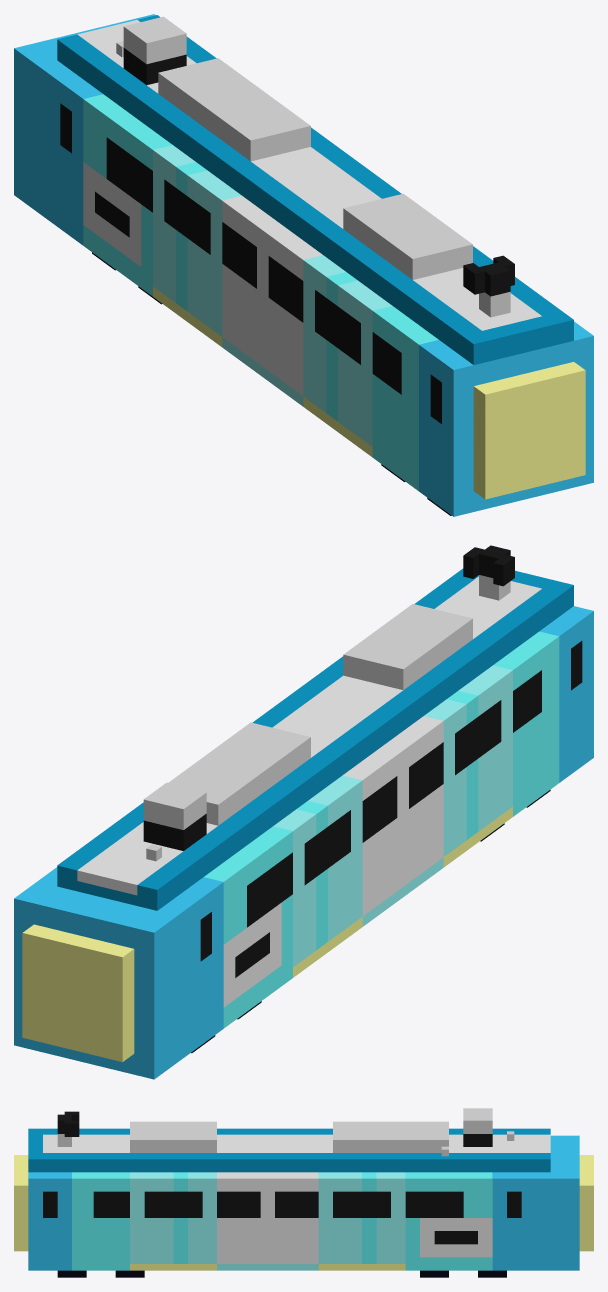
The model's file is roady_cross_assets-0.obj.
3 views of the same model, one above another, from view 1: azimuth 30°, elevation 25°; view 2: azimuth 150°, elevation 25°; view 3: azimuth 270°, elevation 25° (orthographic). The views are drawn at different scales.
Bounding box in the file's own units: 1.4 × 2.2 × 8.
Materials: 1 (1 with a texture image).
